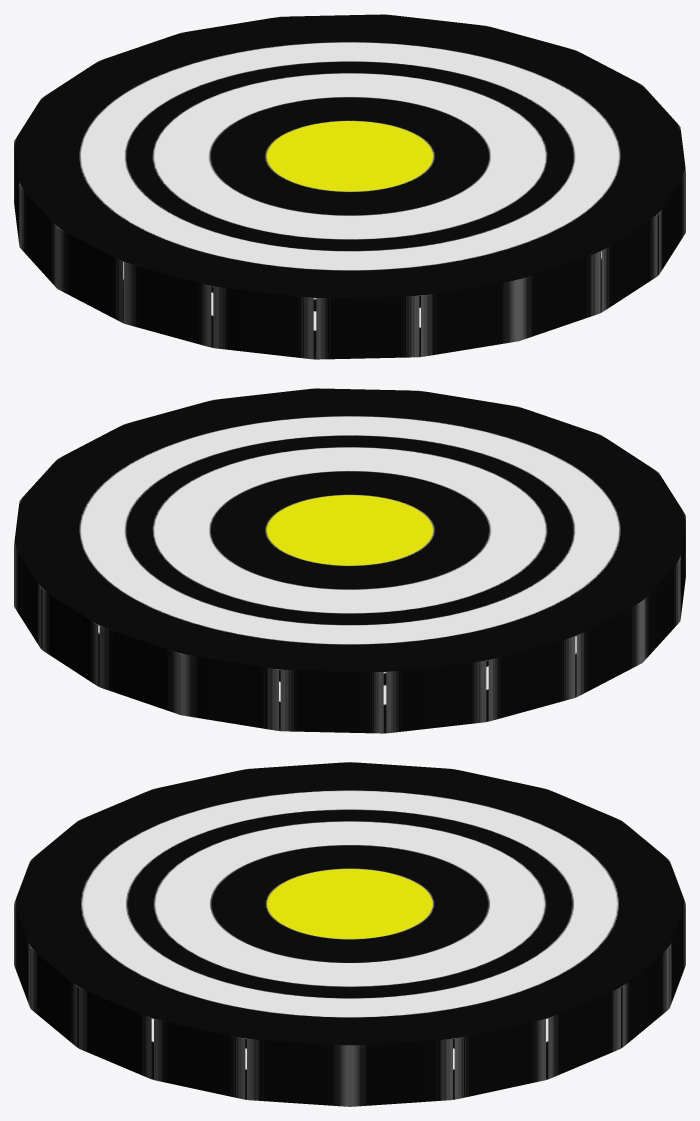
File: MatoBlack.fbx
3 views of the same model, one above another, from view 1: azimuth 30°, elevation 25°; view 2: azimuth 150°, elevation 25°; view 3: azimuth 270°, elevation 25° (orthographic).
Parts seen in each view (by area): view 1: polySurface5, polySurface6, polySurface2; view 2: polySurface5, polySurface2, polySurface6; view 3: polySurface5, polySurface2, polySurface6.
Boxes of the visible parts, x1,y1,x2,y2 form: polySurface5: [181, 14, 685, 312]; polySurface6: [124, 156, 600, 359]; polySurface2: [14, 33, 349, 323]; polySurface5: [14, 388, 419, 714]; polySurface2: [181, 530, 680, 733]; polySurface6: [350, 391, 685, 620]; polySurface5: [30, 904, 685, 1106]; polySurface2: [246, 762, 685, 964]; polySurface6: [14, 769, 349, 1008].
Bounding box in the file's own units: 2 × 0.2 × 2.
1 material, 1 textured.
